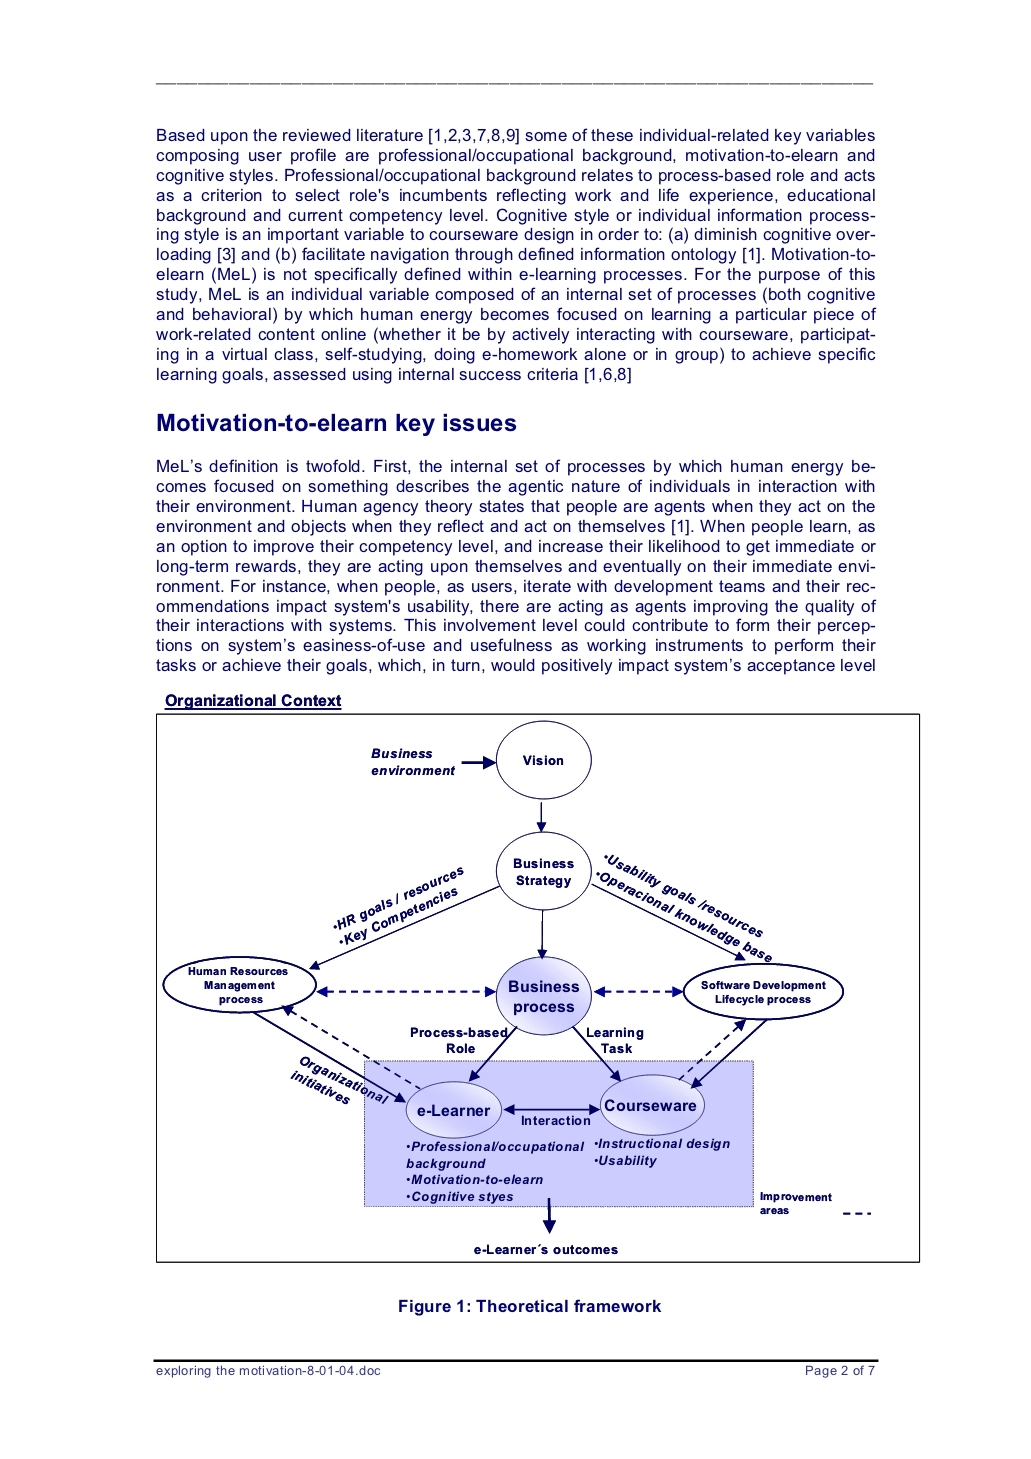figure: (156, 712, 921, 1263), (155, 83, 873, 85)
